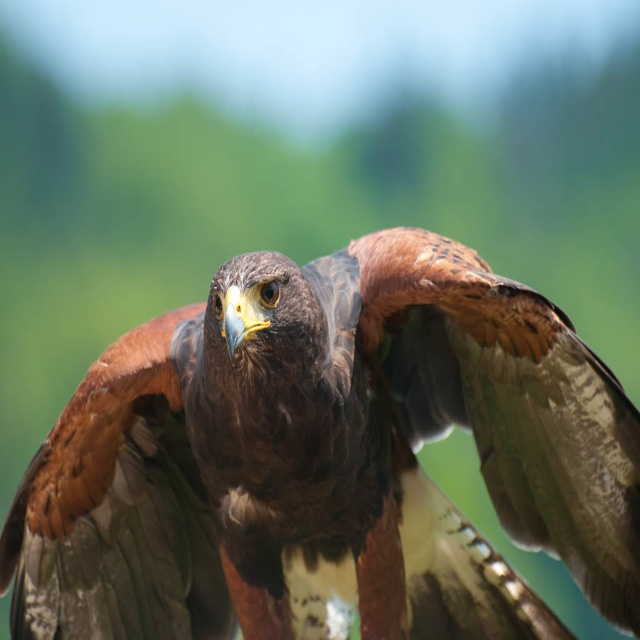Eagle: (0, 224, 639, 639)
